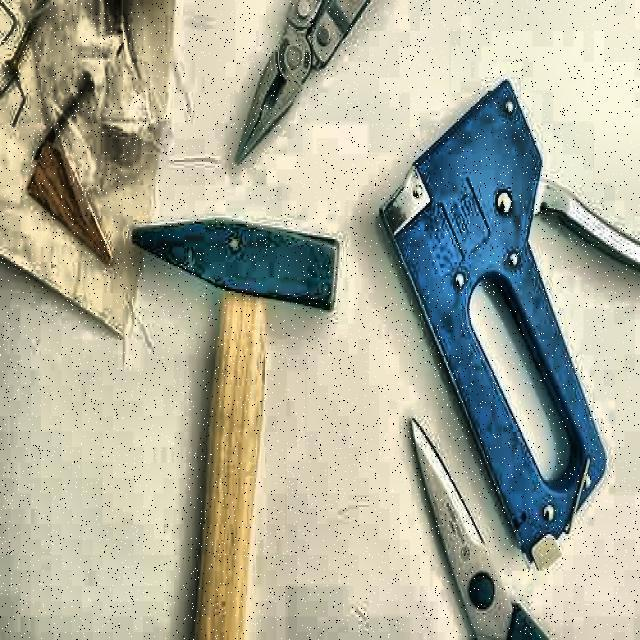hammer: (126, 214, 340, 640)
